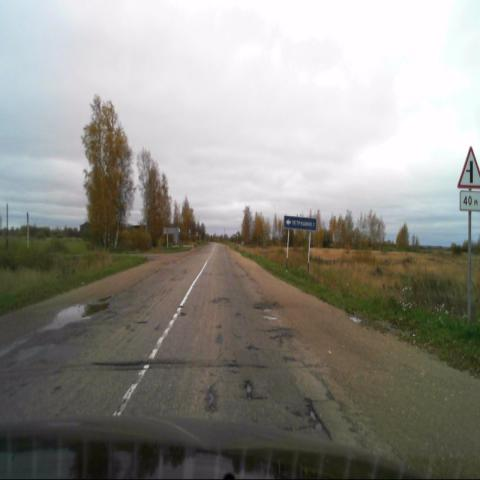8_1_1: (460, 191, 479, 211)
